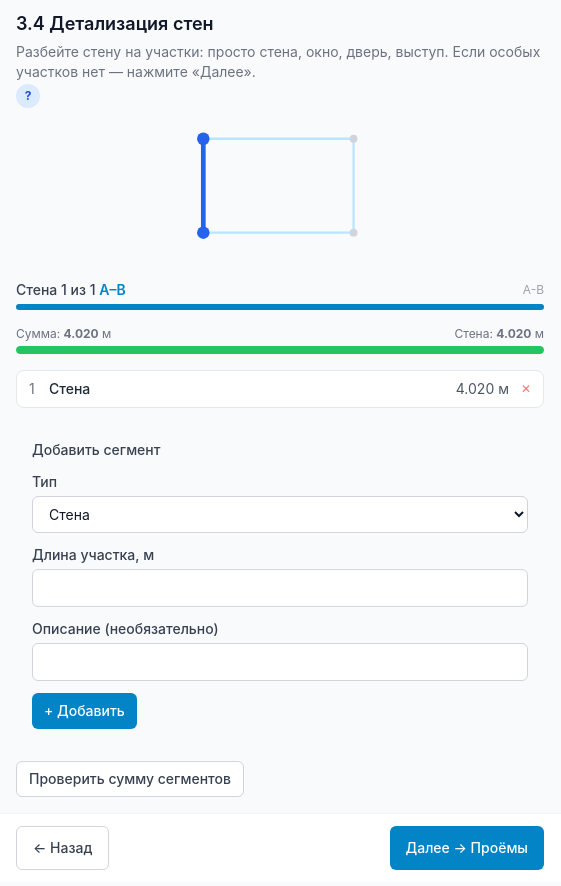
Test case: PerimeterWalkStep › shows validation result when valid
Click the button "Проверить сумму сегментов" at (130, 779), box [16,761,244,797]
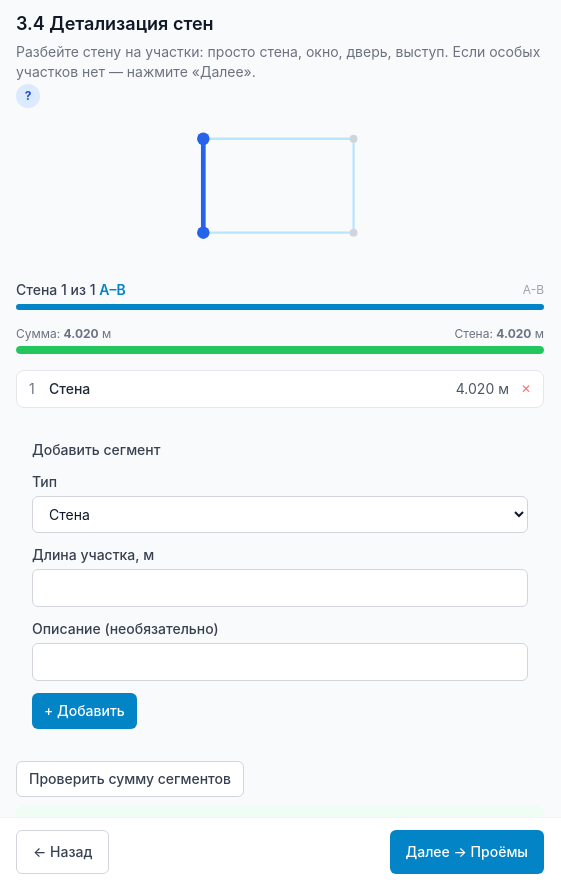
Result: the text "Стена обмерена корректно. Расхождение: 0.0 мм." is shown at [16,805,544,841]
